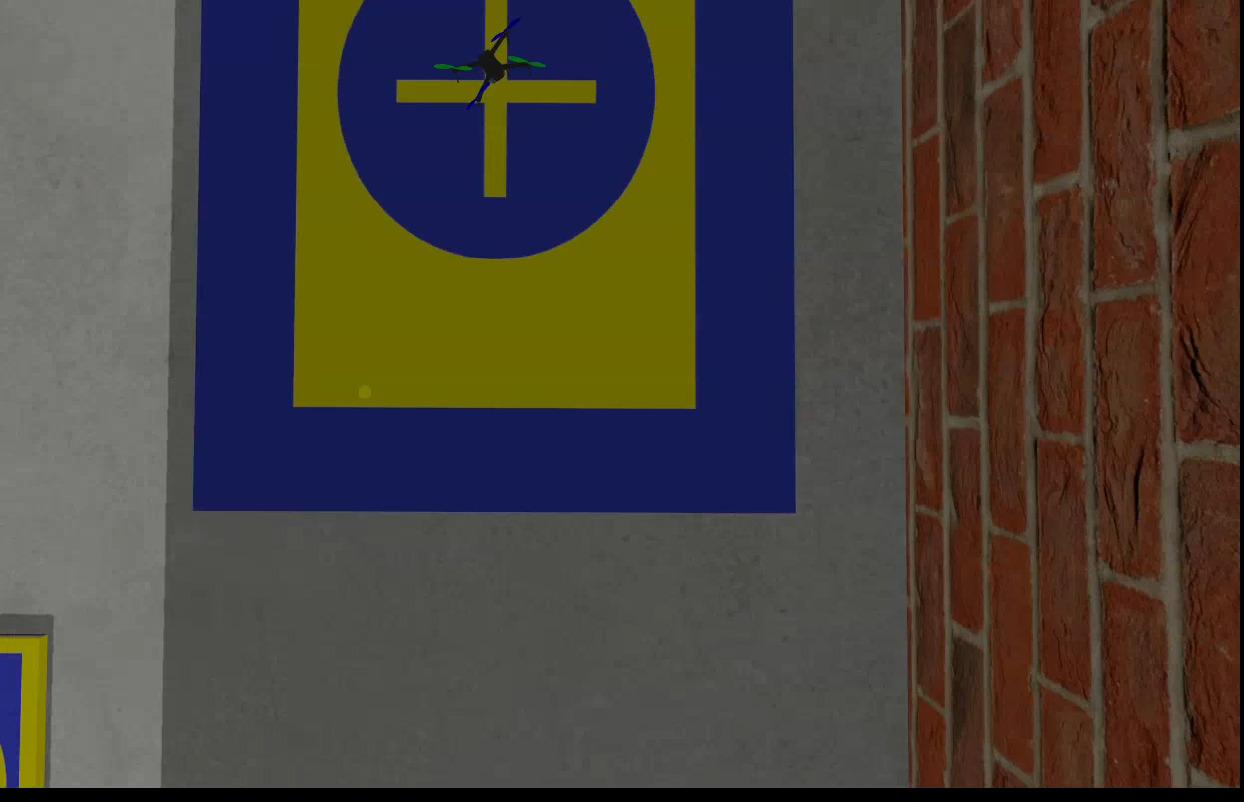large_base: (192, 1, 799, 519)
